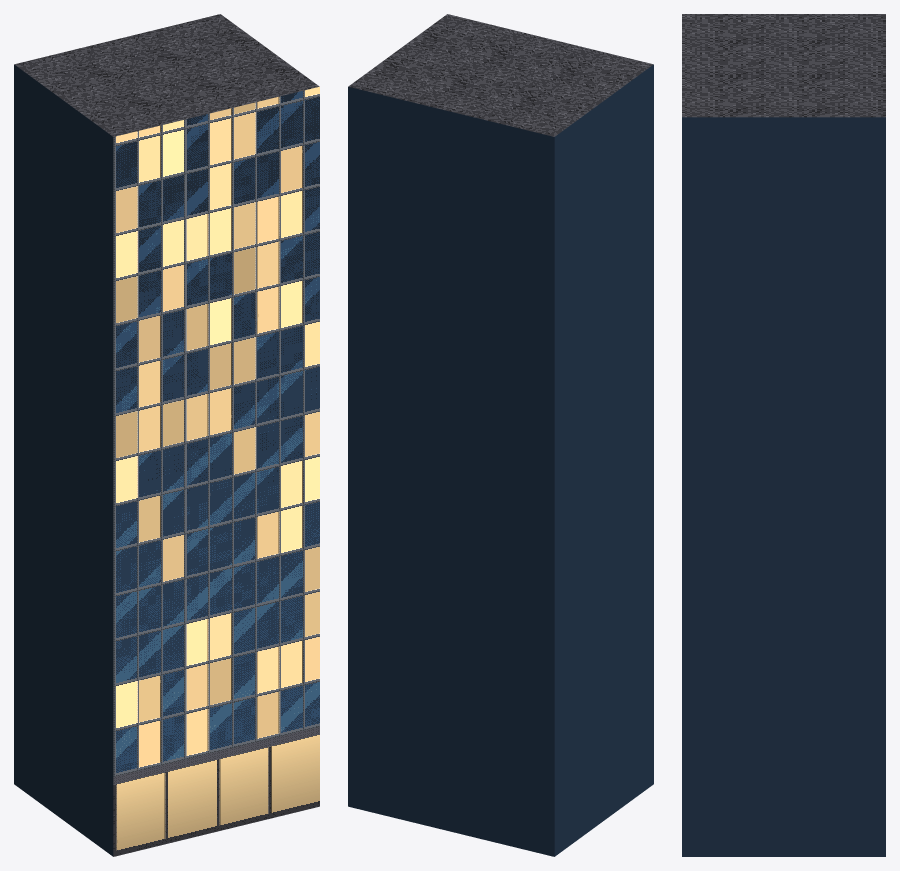
File: Kulisse_11.glb
The picture shows the model from 3 angles, left to right: view 1: azimuth 30°, elevation 25°; view 2: azimuth 150°, elevation 25°; view 3: azimuth 270°, elevation 25°; orthographic projection. The views are drawn at different scales.
Parts seen in each view (by area): view 1: Kulisse_11; view 2: Kulisse_11; view 3: Kulisse_11.
Boxes of the visible parts, x1,y1,x2,y2 form: Kulisse_11: (14, 14, 319, 856); Kulisse_11: (348, 14, 653, 856); Kulisse_11: (682, 14, 885, 856).
Bounding box in the file's own units: 12 × 40 × 10.
3 materials, 2 textured.
